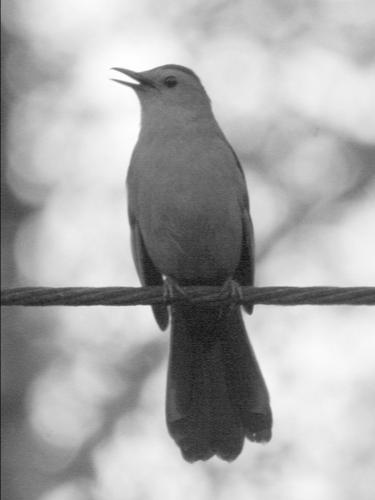bird: (92, 50, 303, 474)
